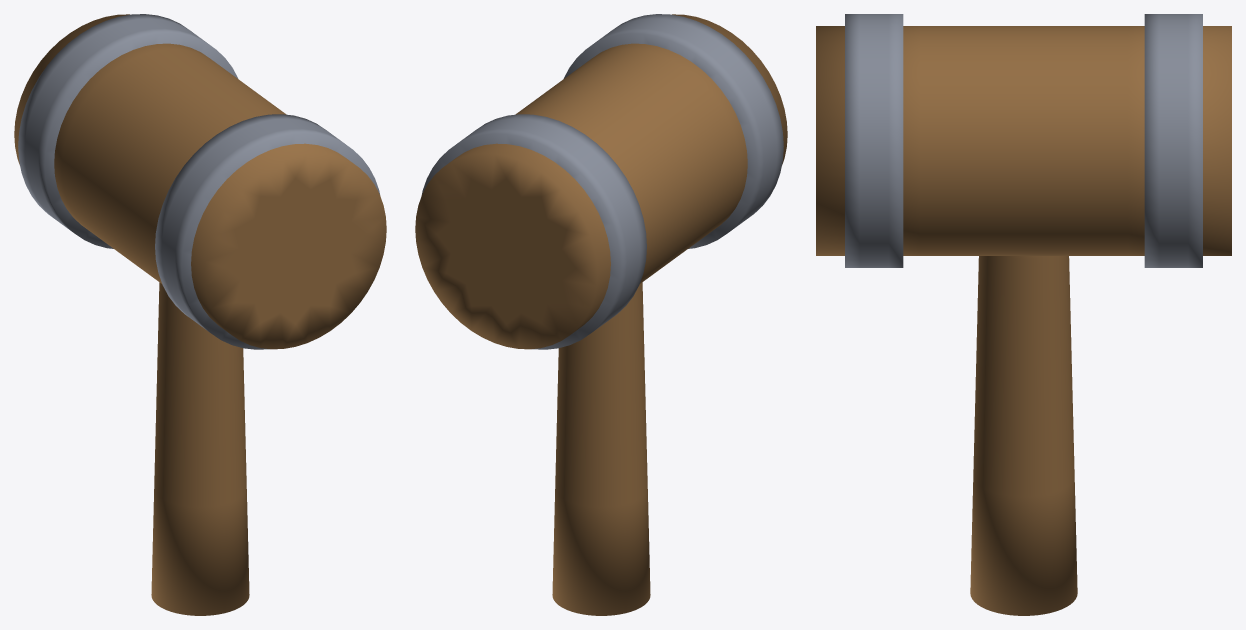
3 views of the same model, side by side, from view 1: azimuth 30°, elevation 25°; view 2: azimuth 150°, elevation 25°; view 3: azimuth 270°, elevation 25° (orthographic). The views are drawn at different scales.
Visible parts, largest first — view 1: hammer; view 2: hammer; view 3: hammer.
Part boxes in pixels (box(x1,y1,x2,y2)): hammer: box(14, 14, 386, 615); hammer: box(415, 14, 787, 615); hammer: box(816, 14, 1231, 615).
Bounding box in the file's own units: 0.1223 × 0.3011 × 0.2.
